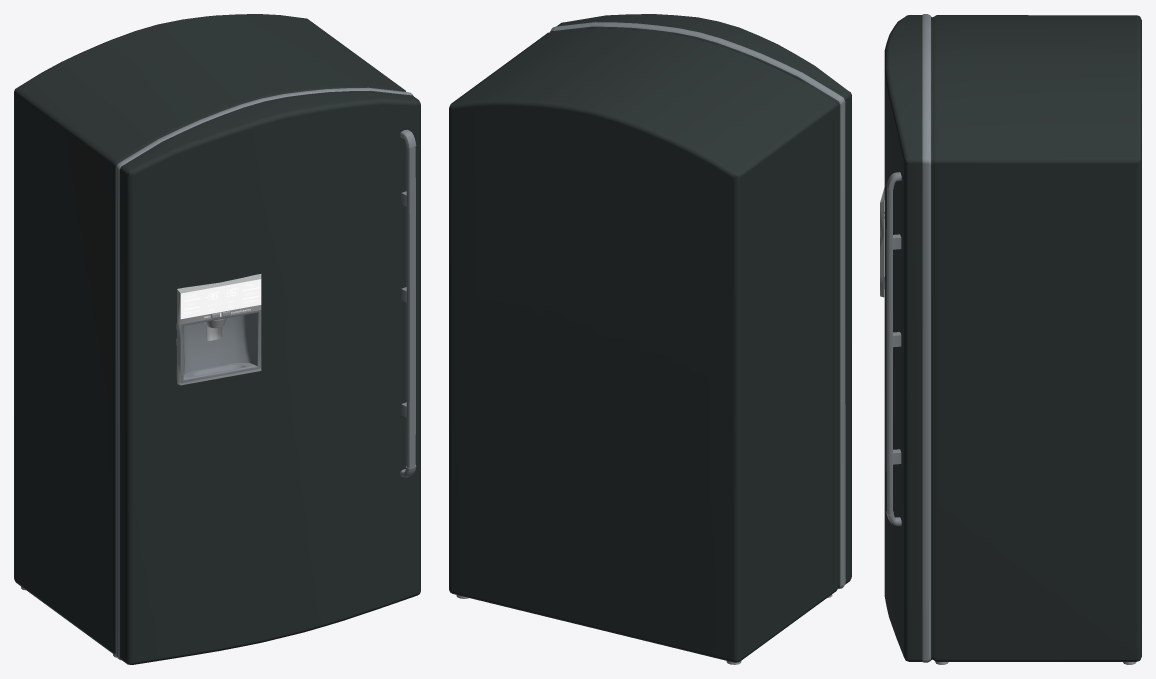
File: fridge_steel.glb
The picture shows the model from 3 angles, left to right: view 1: azimuth 30°, elevation 25°; view 2: azimuth 150°, elevation 25°; view 3: azimuth 270°, elevation 25°; orthographic projection. The views are drawn at different scales.
Parts seen in each view (by area): view 1: fridge_door_e4, fridge_e4; view 2: fridge_e4, fridge_door_e4; view 3: fridge_e4, fridge_door_e4.
Boxes of the visible parts, left/top/right/bottom form: fridge_door_e4: left=115, top=87, right=420, bottom=664; fridge_e4: left=14, top=14, right=405, bottom=657; fridge_e4: left=449, top=28, right=838, bottom=664; fridge_door_e4: left=550, top=14, right=851, bottom=588; fridge_e4: left=932, top=15, right=1141, bottom=664; fridge_door_e4: left=880, top=14, right=932, bottom=662.
Bounding box in the file's own units: 1.2 × 2.05 × 0.8983.
7 materials, 2 textured.
